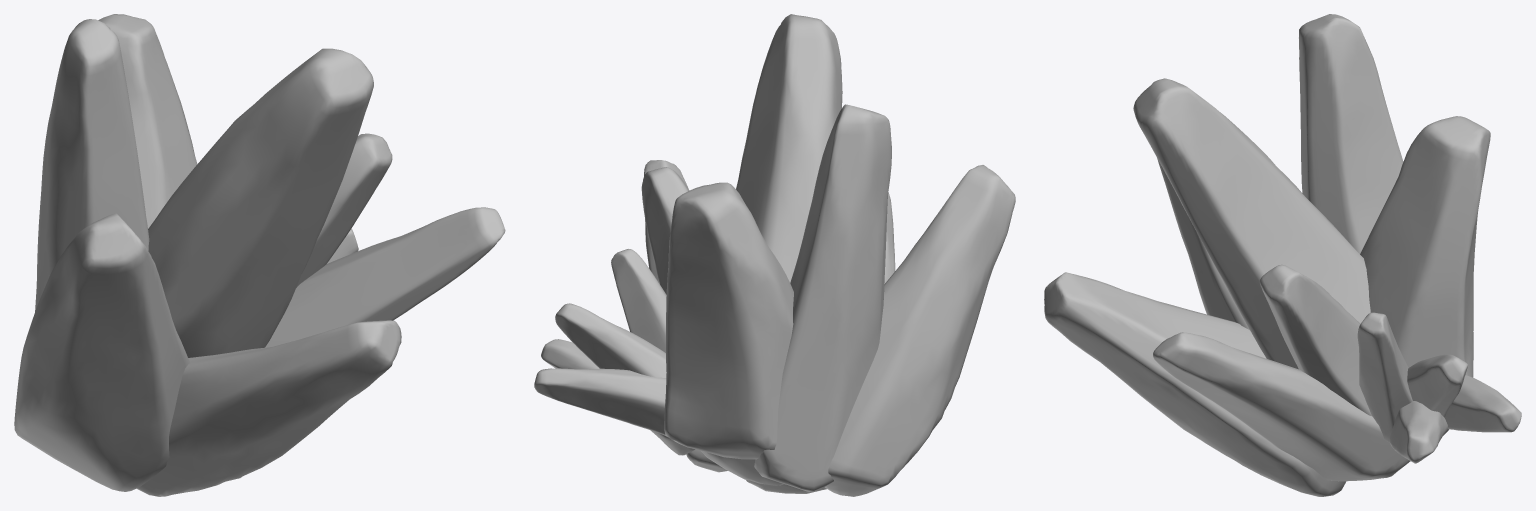
Rendered from MOD_Crystal.fbx.
3 renders of one model, left to right at view 1: azimuth 30°, elevation 25°; view 2: azimuth 150°, elevation 25°; view 3: azimuth 270°, elevation 25°, orthographic. The views are drawn at different scales.
Parts seen in each view (by area): view 1: low10; view 2: low10; view 3: low10.
Boxes of the visible parts, bbox=[...] form: low10: bbox=[14, 14, 505, 496]; low10: bbox=[534, 14, 1015, 496]; low10: bbox=[1044, 14, 1521, 496].
Bounding box in the file's own units: 3.43 × 3.67 × 3.69.
